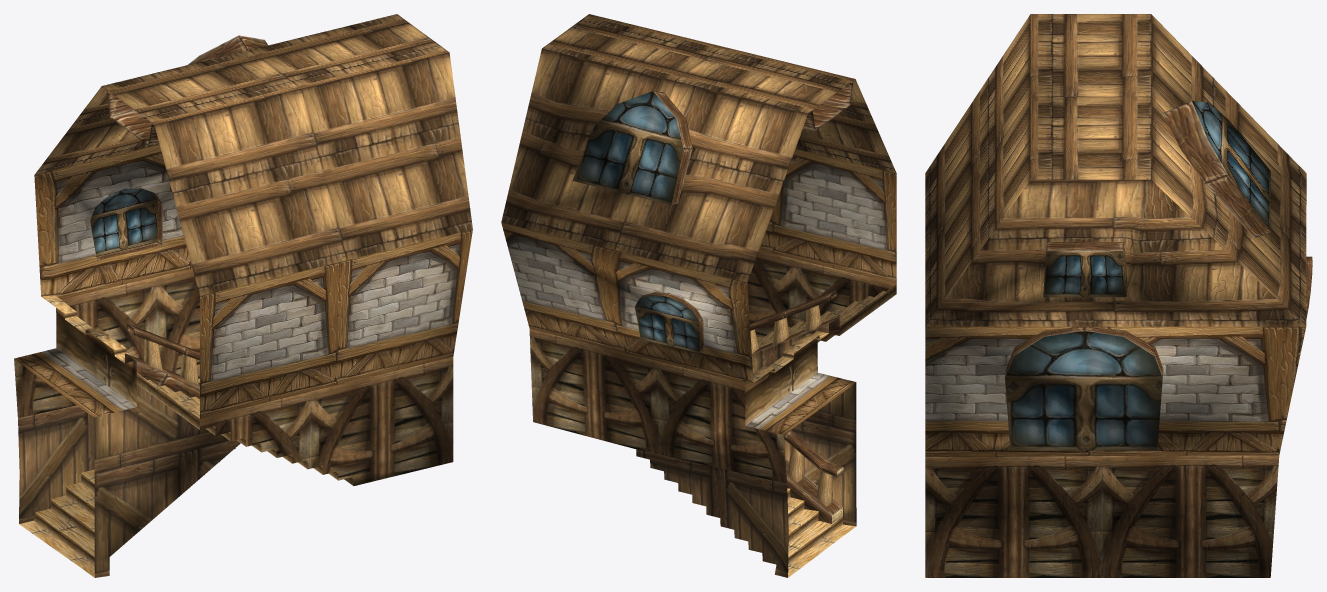
File: stormwind_063.fbx
The picture shows the model from 3 angles, left to right: view 1: azimuth 30°, elevation 25°; view 2: azimuth 150°, elevation 25°; view 3: azimuth 270°, elevation 25°; orthographic projection. The views are drawn at different scales.
Visible parts, largest first — view 1: stormwind_063_55, stormwind_063_87, stormwind_063_49, stormwind_063_56, stormwind_063_53, stormwind_063_84, stormwind_063_54; view 2: stormwind_063_55, stormwind_063_87, stormwind_063_49, stormwind_063_53, stormwind_063_56, stormwind_063_84, stormwind_063_54; view 3: stormwind_063_55, stormwind_063_49, stormwind_063_87, stormwind_063_84, stormwind_063_53.
Boxes of the visible parts, bbox=[...] form: stormwind_063_55: bbox=[34, 14, 472, 295]; stormwind_063_87: bbox=[14, 144, 472, 418]; stormwind_063_49: bbox=[14, 268, 453, 485]; stormwind_063_56: bbox=[18, 353, 240, 577]; stormwind_063_53: bbox=[19, 35, 353, 577]; stormwind_063_84: bbox=[90, 188, 157, 256]; stormwind_063_54: bbox=[144, 339, 198, 384]; stormwind_063_55: bbox=[501, 14, 896, 282]; stormwind_063_87: bbox=[501, 149, 896, 434]; stormwind_063_49: bbox=[529, 250, 895, 483]; stormwind_063_53: bbox=[640, 81, 896, 577]; stormwind_063_56: bbox=[636, 324, 856, 577]; stormwind_063_84: bbox=[572, 91, 699, 353]; stormwind_063_54: bbox=[750, 305, 843, 523]; stormwind_063_55: bbox=[925, 14, 1306, 326]; stormwind_063_49: bbox=[925, 455, 1279, 577]; stormwind_063_87: bbox=[925, 307, 1305, 456]; stormwind_063_84: bbox=[1005, 101, 1270, 450]; stormwind_063_53: bbox=[1005, 101, 1312, 448].
Size of the model in its own units: 11.33 by 15.25 by 9.91.
